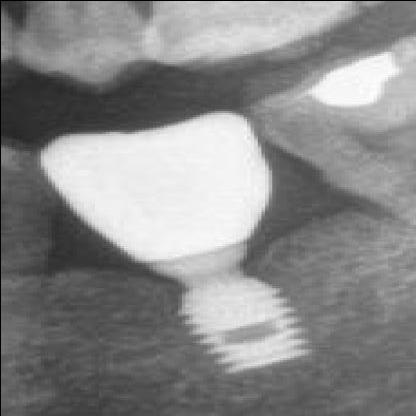Bicon: (142, 260, 346, 388)
